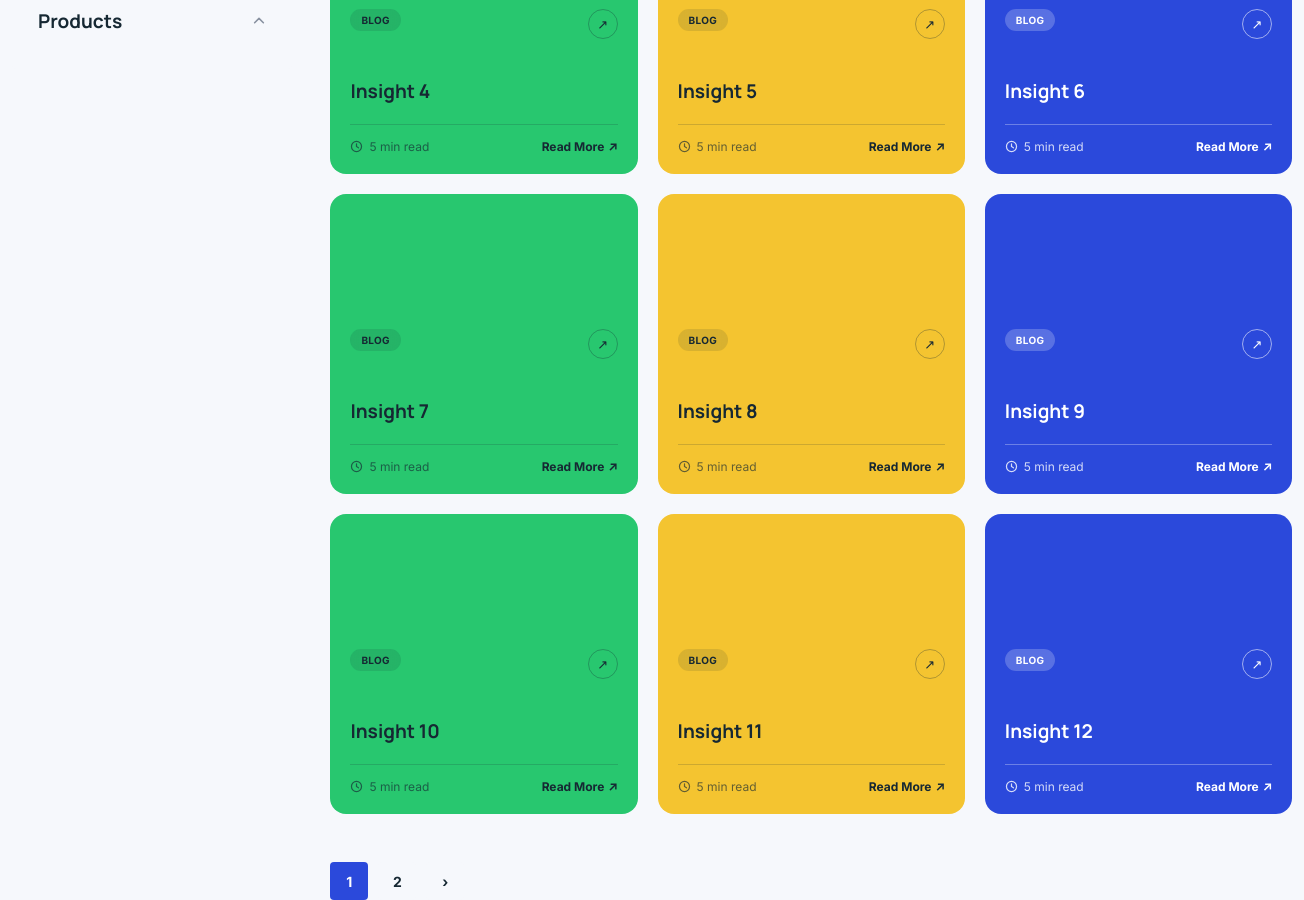
Test case: InsightsExplorer pagination › shows four rows of three, then pages the rest
(page scrolled)
Click the button named "Page 2" at (397, 881), box [378, 862, 416, 899]
(page scrolled)
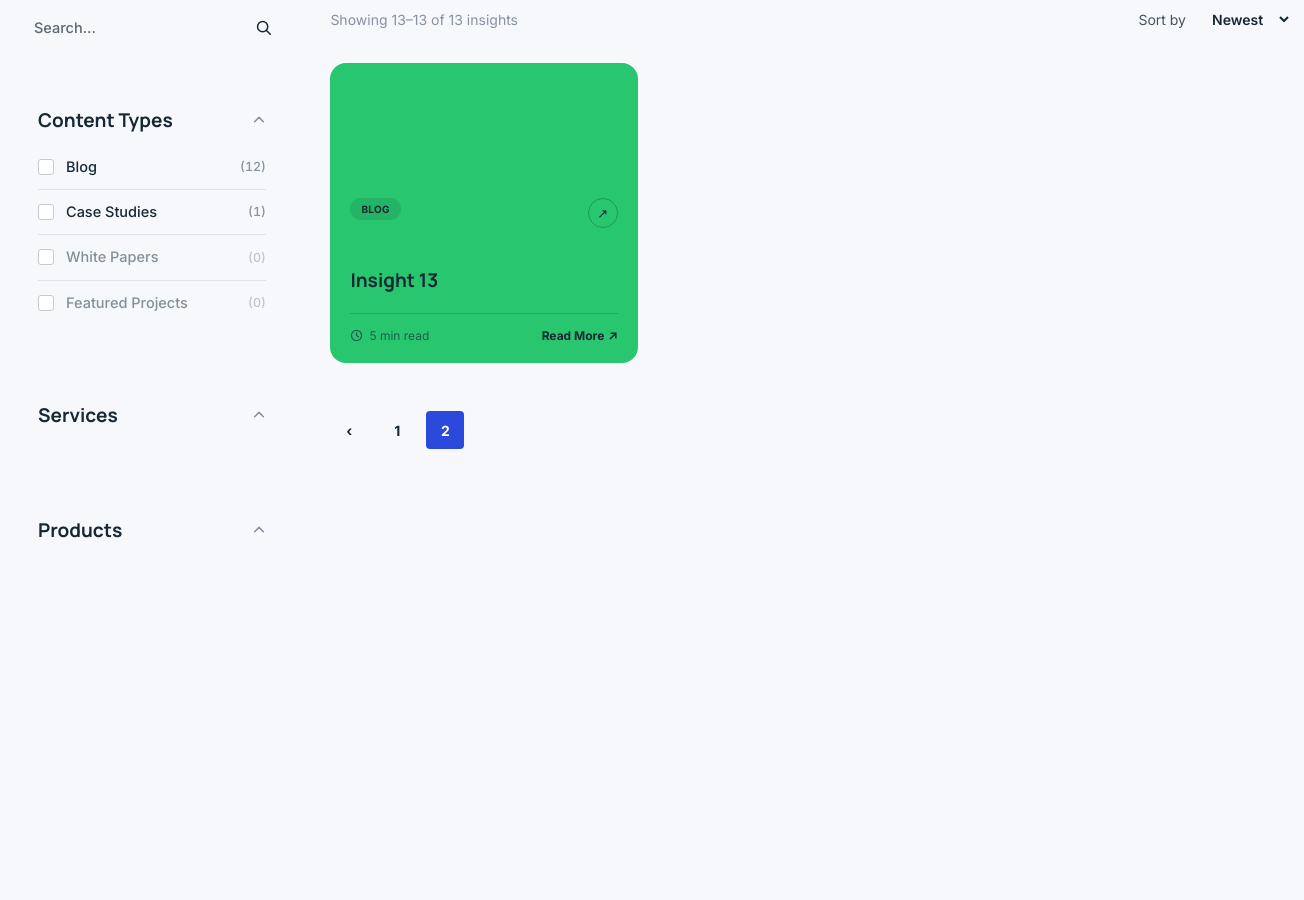
expect the headings read "Insight 13", in this order: met, box [350, 267, 438, 293]
expect the text "Showing 13–13 of 13 insights" is shown: met, box [330, 11, 518, 28]
expect the button named "Previous page" is shown: met, box [330, 411, 368, 449]
